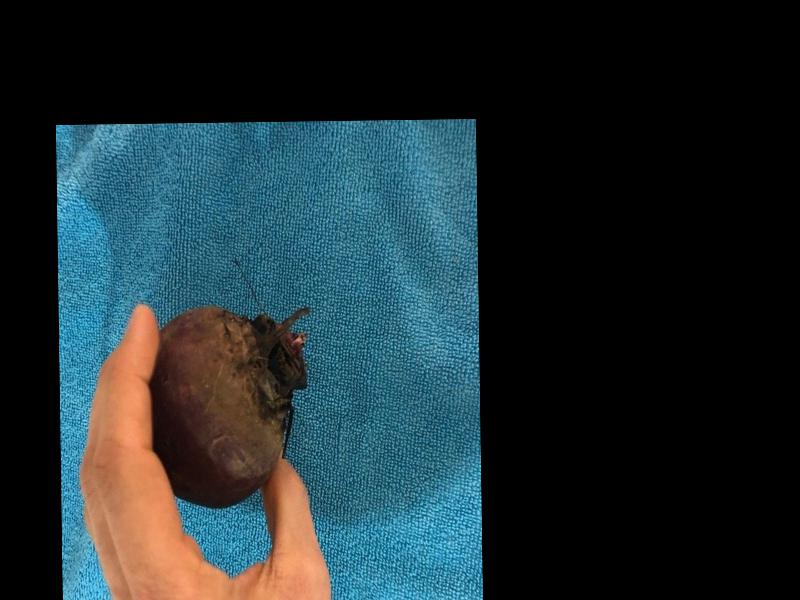Beet: (150, 305, 311, 507)
